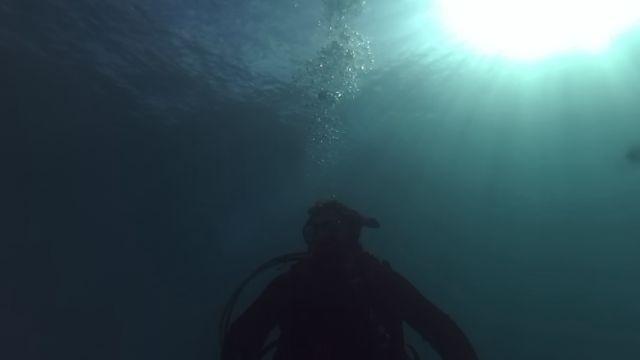Diver: (203, 183, 484, 350)
